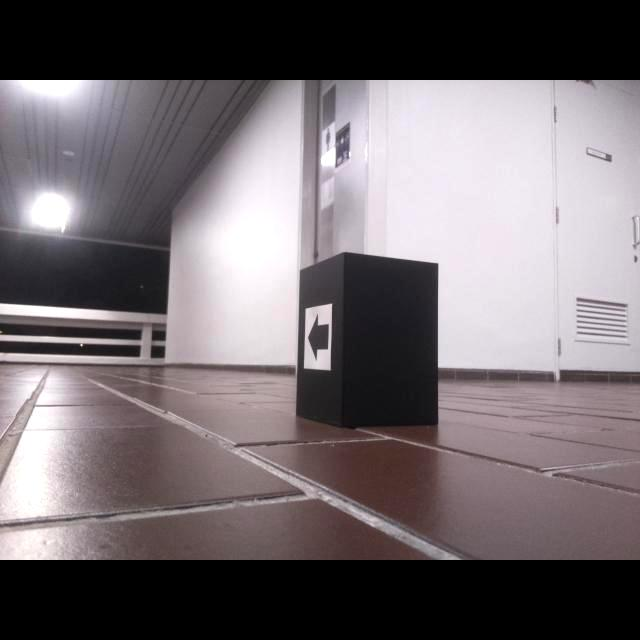LEFT: (307, 311, 329, 363)
